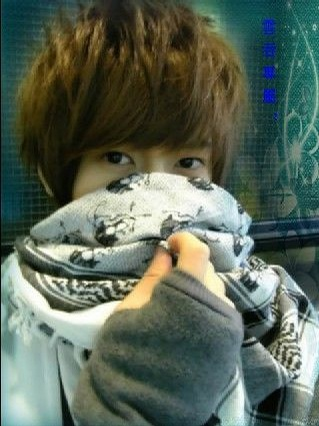face_mask: (70, 65, 218, 313)
